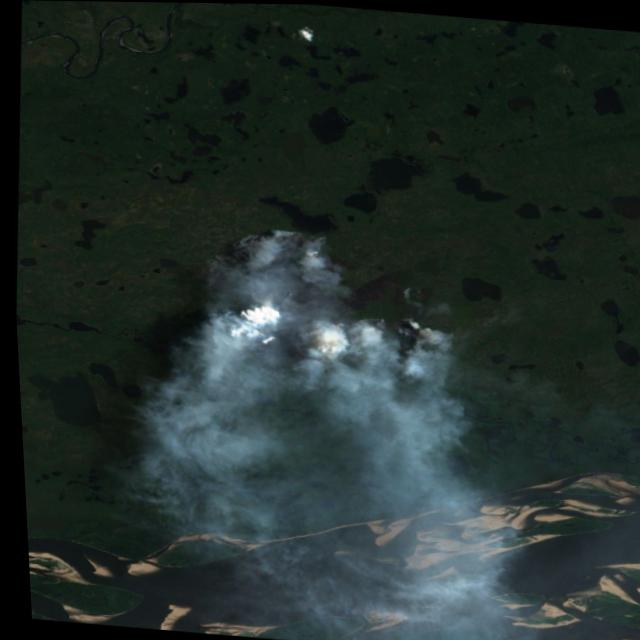fire: (205, 220, 471, 396)
